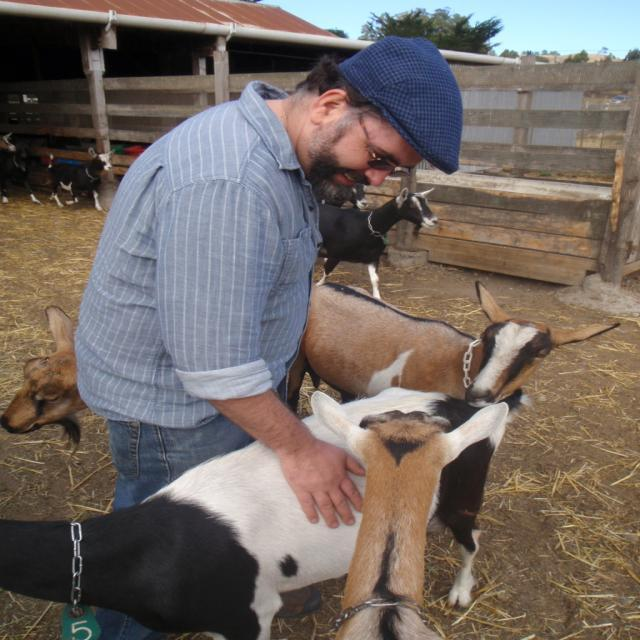Goat: (1, 384, 512, 639), (312, 185, 439, 300), (45, 147, 116, 212)
